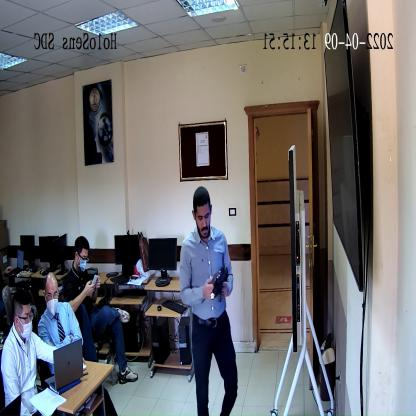handgun: (213, 264, 230, 305)
